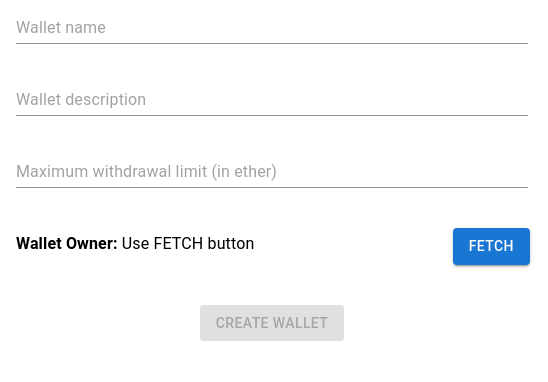
it: CreateWallet › should display a field required error if max withdrawal limit is not provided
Type "Wallet 1" into the field with placeholder "Wallet name".
click(272, 28); type("Wallet 1")  # box [16,12,528,44]
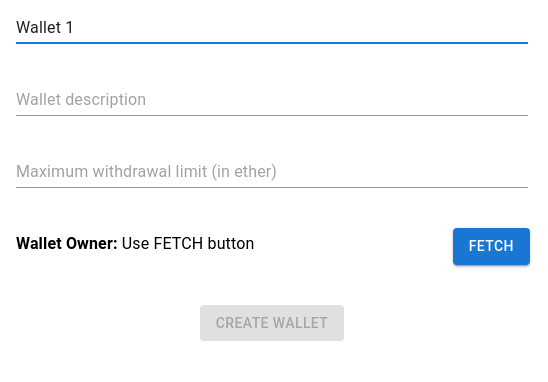
Click the field with placeholder "Maximum withdrawal limit (in ether)".
click(272, 172)  # box [16,156,528,188]
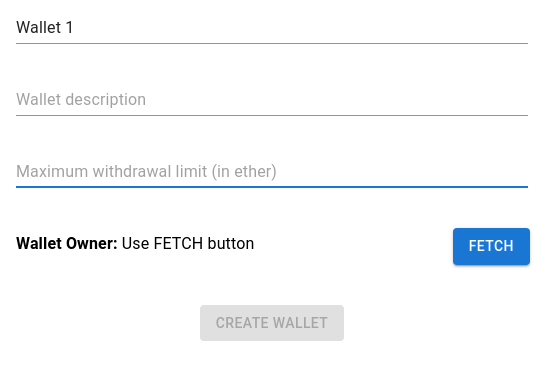
Click the field with placeholder "Wallet name".
click(272, 28)  # box [16,12,528,44]
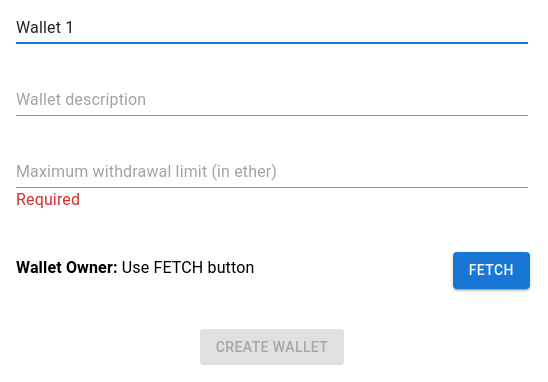
Check: the button "Create Wallet" is disabled, box [200,328,344,365]
Check: the text "Required" is shown, box [16,190,80,209]
